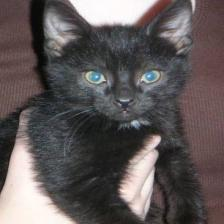cat: (36, 2, 202, 123)
